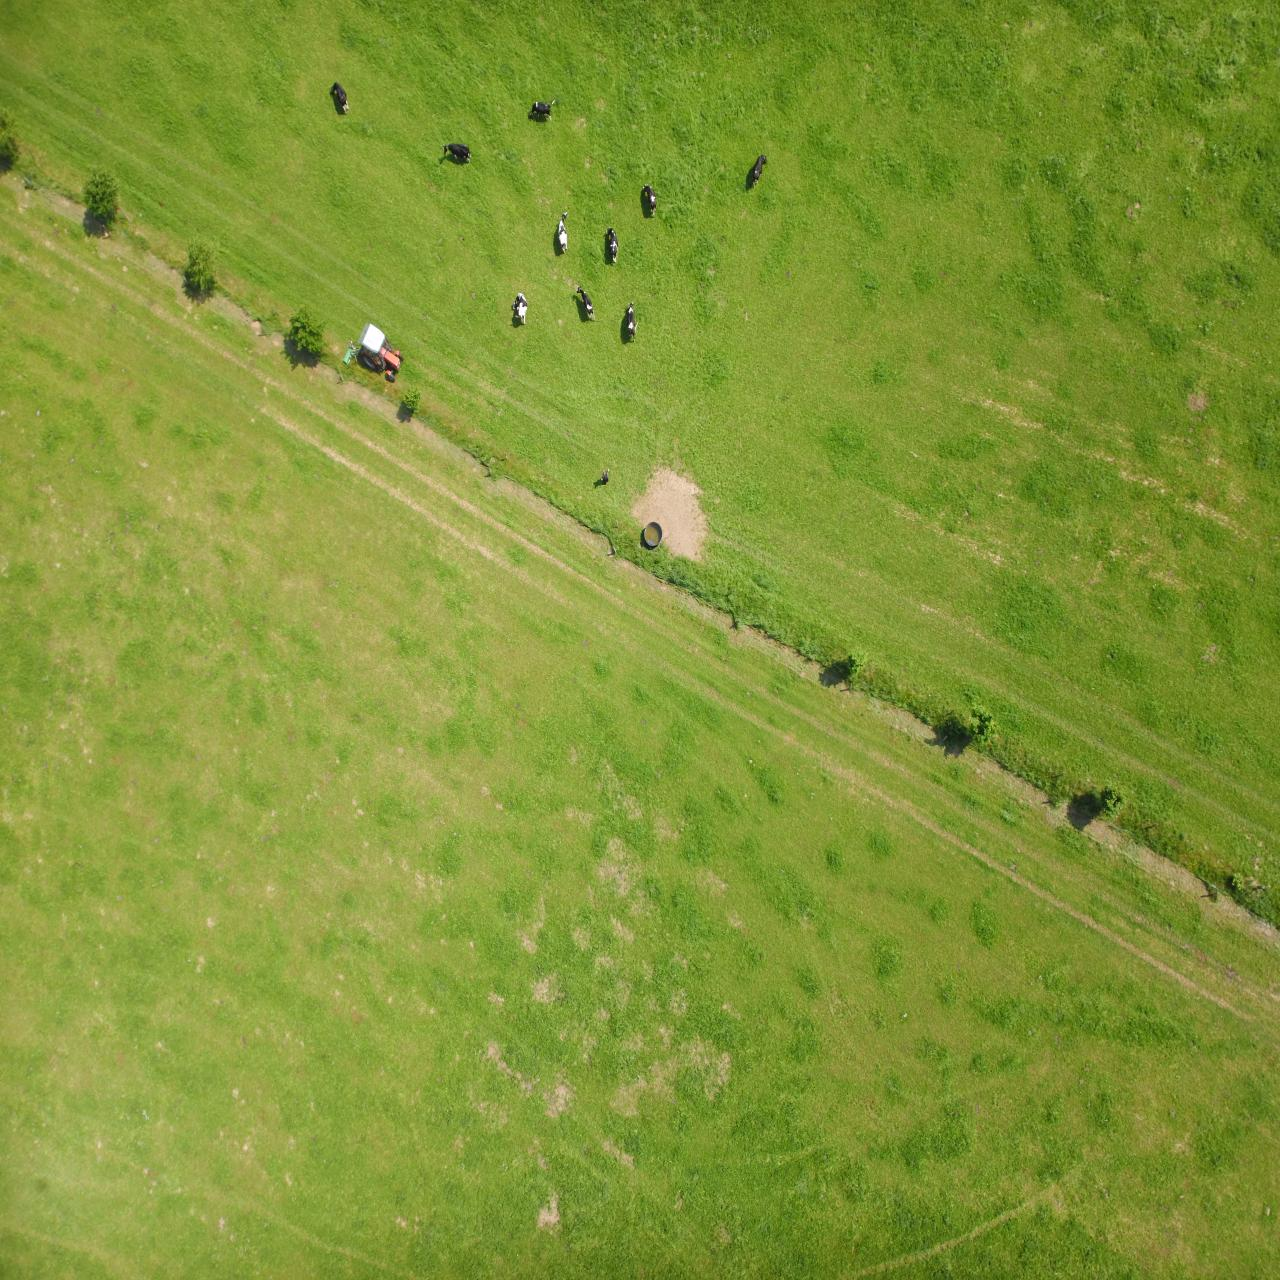cow: (928, 1166, 951, 1198), (685, 958, 703, 994), (724, 1157, 751, 1182), (809, 1118, 838, 1137), (622, 1062, 638, 1096), (641, 938, 653, 979), (661, 1017, 674, 1054), (513, 1092, 527, 1125), (753, 955, 767, 987), (712, 1027, 722, 1068)
